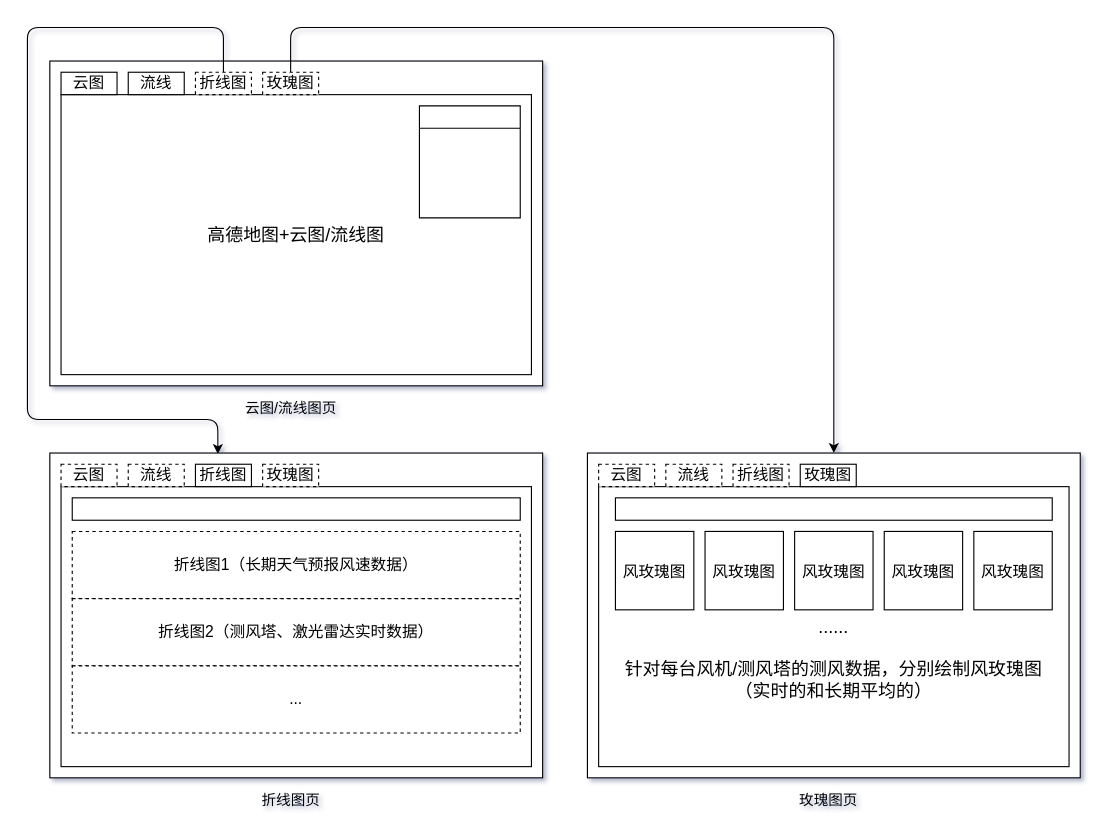
The diagram is 1107 pixels wide and 838 high, and some of its shapes have lost their labels. Here are the shapes that lost their labels. From the top down, the centre of each, then its label:
(469,161): 设置下拉框
(295,508): 筛选栏（按集群、按状态、按...）
(833,508): 筛选栏 （按集群、按状态、按...）
